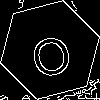O: (25, 25, 75, 80)
